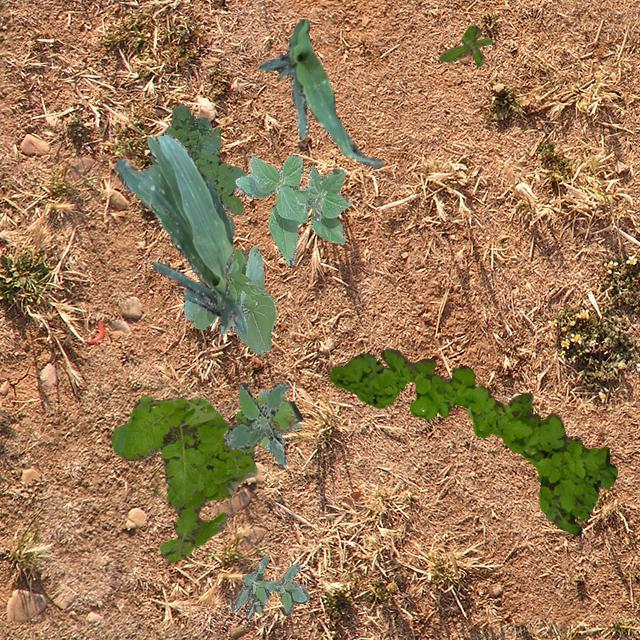crop: (114, 134, 246, 332), (256, 18, 382, 166), (234, 152, 350, 264), (182, 244, 276, 354)
weed: (328, 348, 616, 534), (110, 394, 302, 562), (149, 104, 245, 234), (222, 381, 288, 466), (230, 554, 308, 618), (258, 388, 300, 450), (438, 24, 491, 66)
